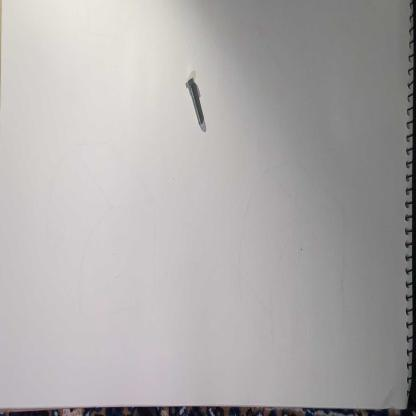Bolts: (184, 74, 206, 130)
